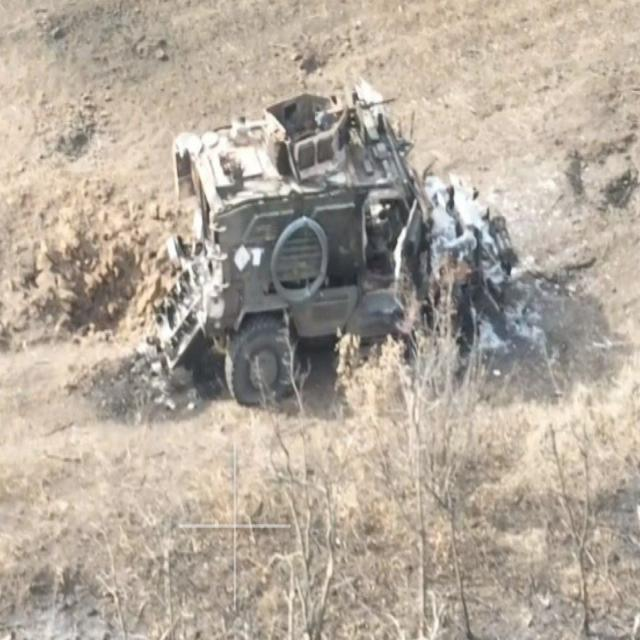Vehicle: (143, 83, 513, 437)
